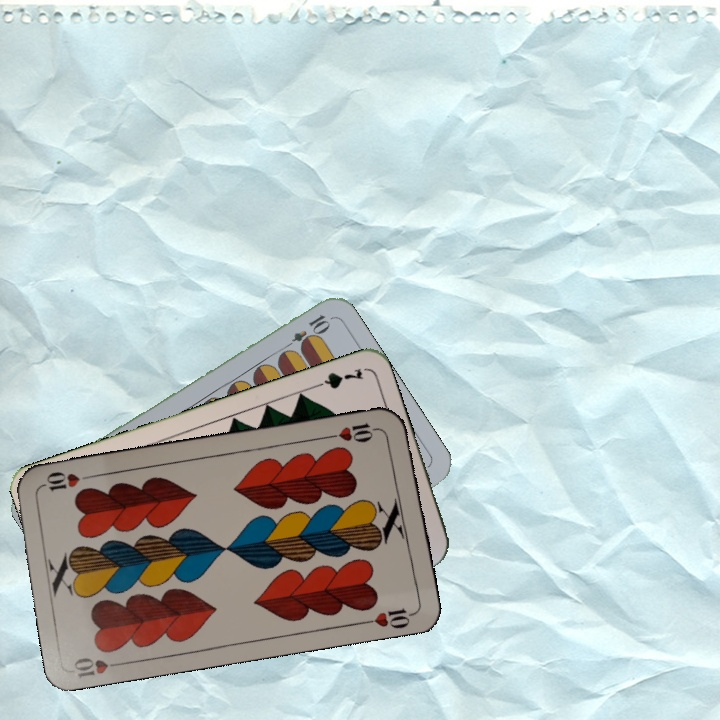E10: (279, 310, 332, 354)
G7: (307, 364, 366, 392)
H10: (70, 653, 129, 680), (325, 419, 384, 445)
